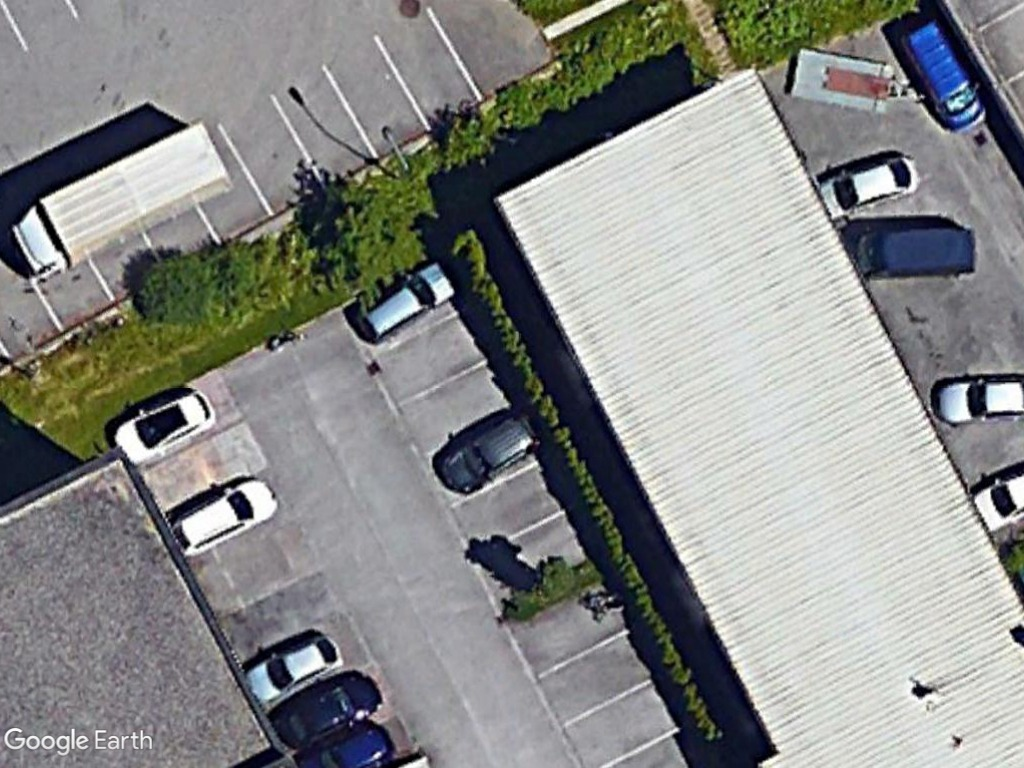car: (432, 404, 546, 497), (267, 667, 384, 754), (162, 473, 279, 557), (350, 255, 455, 346), (108, 382, 219, 468), (235, 627, 347, 708), (813, 146, 924, 221)
truck: (0, 112, 240, 281)
van: (896, 11, 990, 138)
